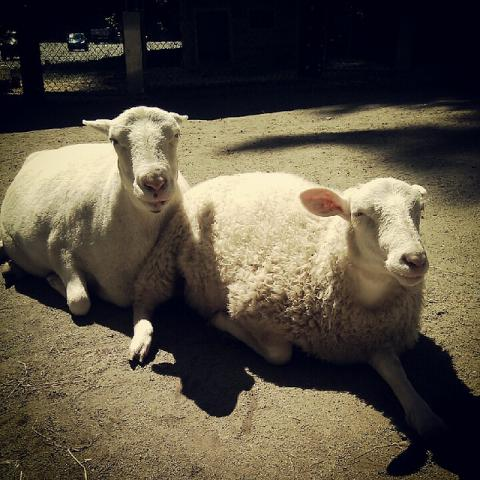car: (1, 32, 19, 61), (91, 28, 121, 44), (66, 31, 88, 52)
